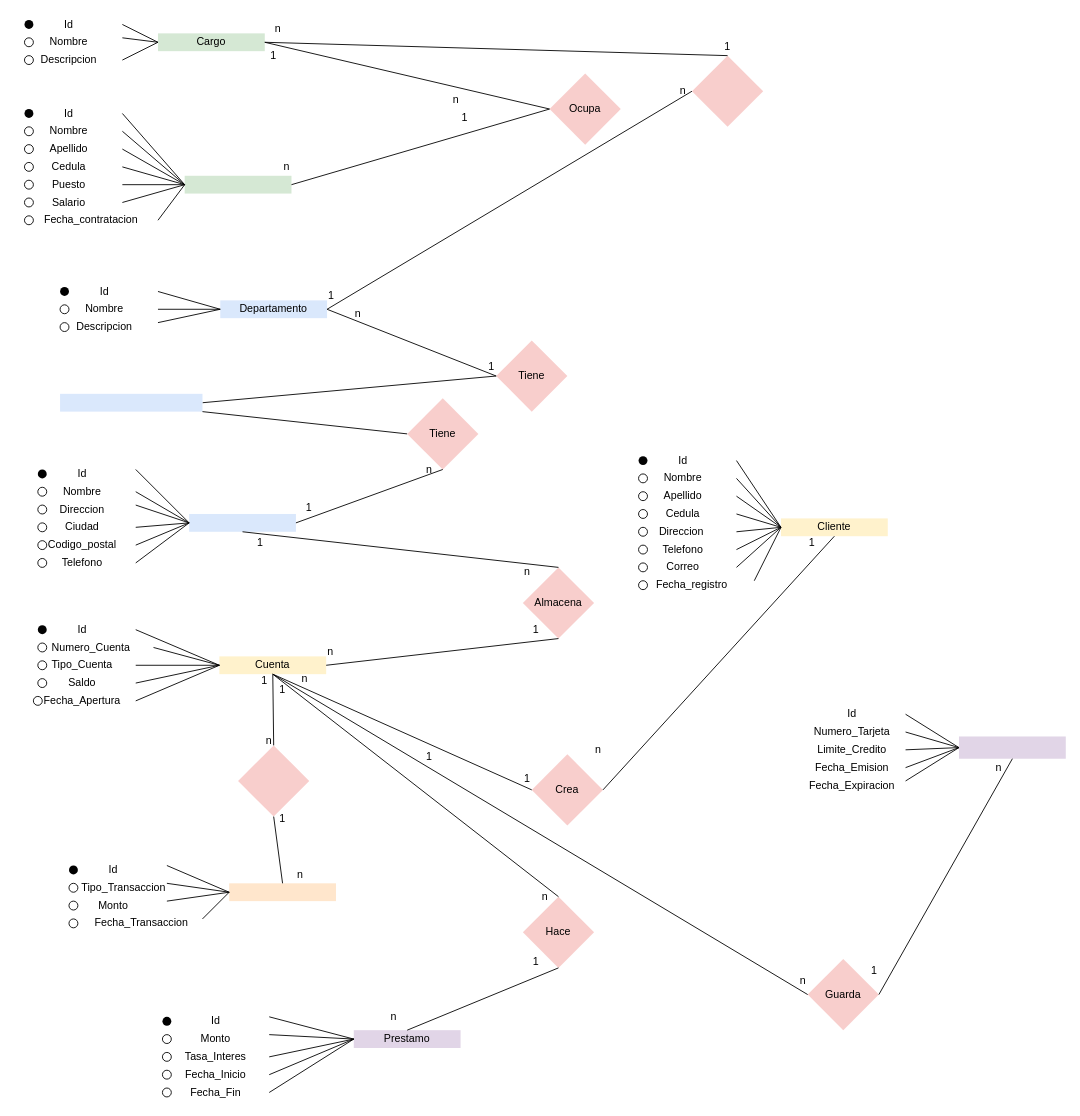
Image size: 1080x1116. Some labels were removed from this diagram. Here are the shapes that lost their labels. From the top down, the centre of each, then its label:
the point at 727,90: Contiene
the point at 237,184: Empleado
the point at 131,402: Sucursal_Departamento
the point at 242,522: Sucursal
the point at 1012,747: Tarjeta_Credito
the point at 273,780: Realiza
the point at 282,892: Transaccion
